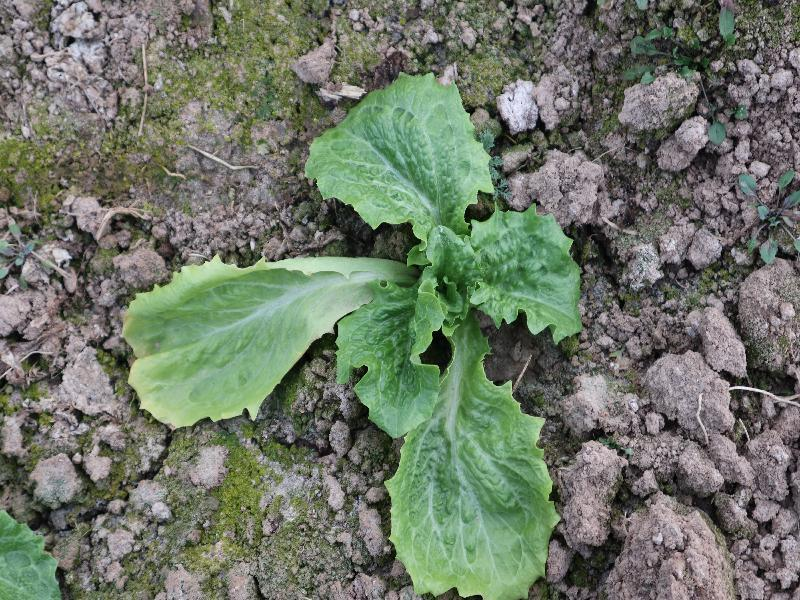lettuce: (119, 73, 583, 600)
